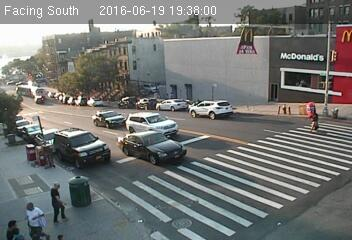neg: (5, 116, 41, 164), (77, 146, 105, 183), (137, 127, 165, 164), (39, 139, 61, 168), (112, 93, 129, 116)
pos: (41, 181, 73, 225), (18, 198, 48, 238), (306, 107, 325, 133)
